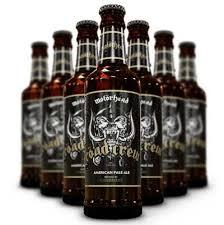Glass bottle: (2, 5, 224, 223)
